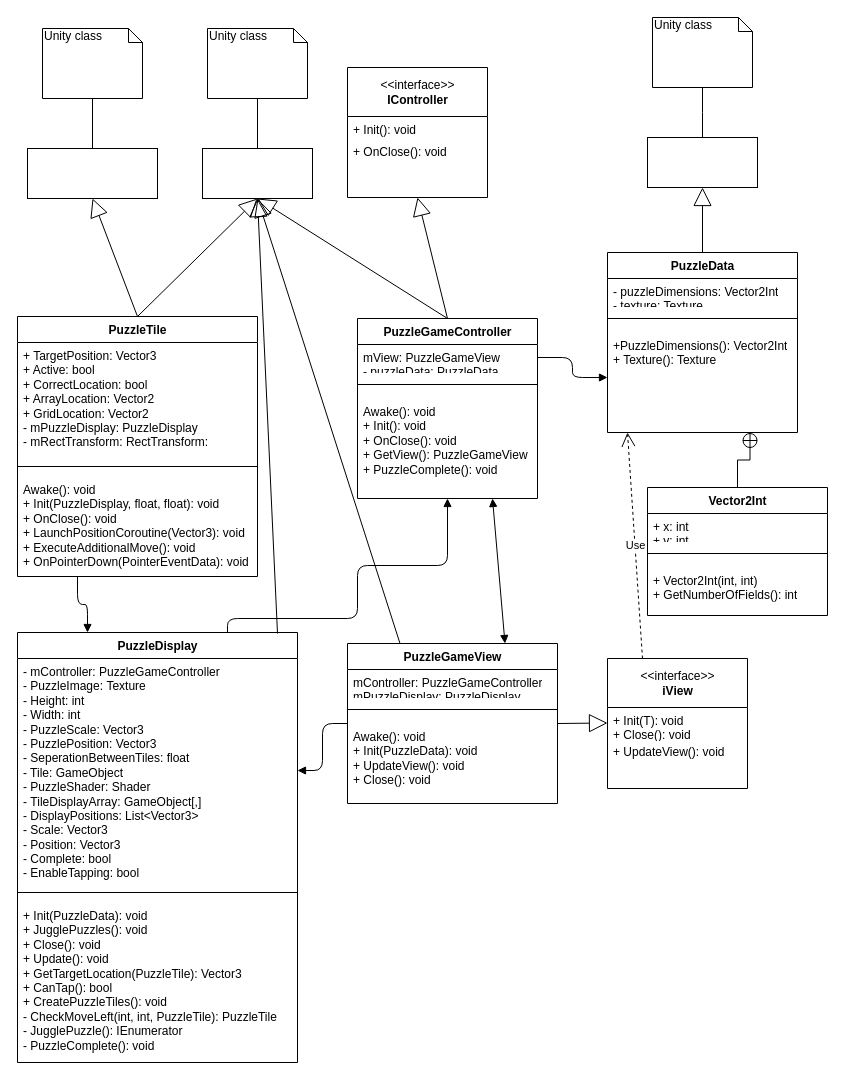
The diagram is 845 pixels wide and 1083 high, and some of its shapes have lost their labels. The shapes that lost their labels are listed below. From the top down, each one's centre as x and y in pixels, then its label:
At point (92, 173): "IPointerDownHandler".
At point (257, 173): "MonoBehaviour".
At point (702, 162): "ScriptableObject".
